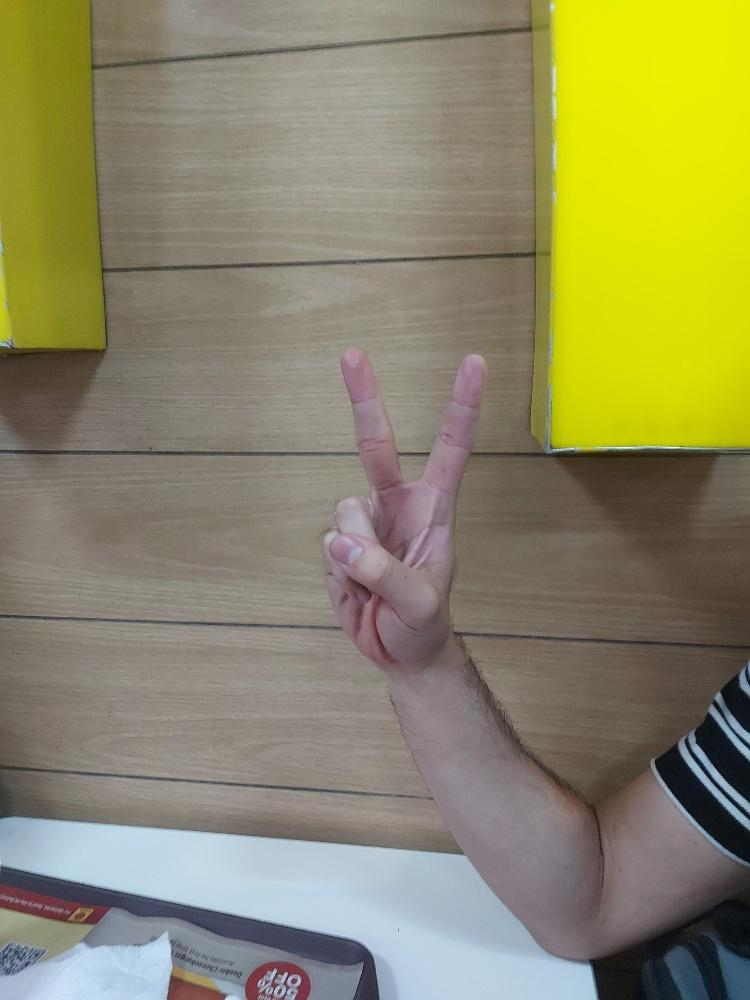v: (317, 338, 494, 667)
